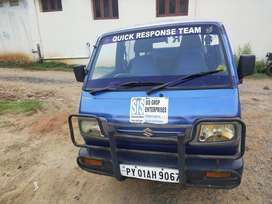PY01AH9067: (119, 163, 180, 183)
